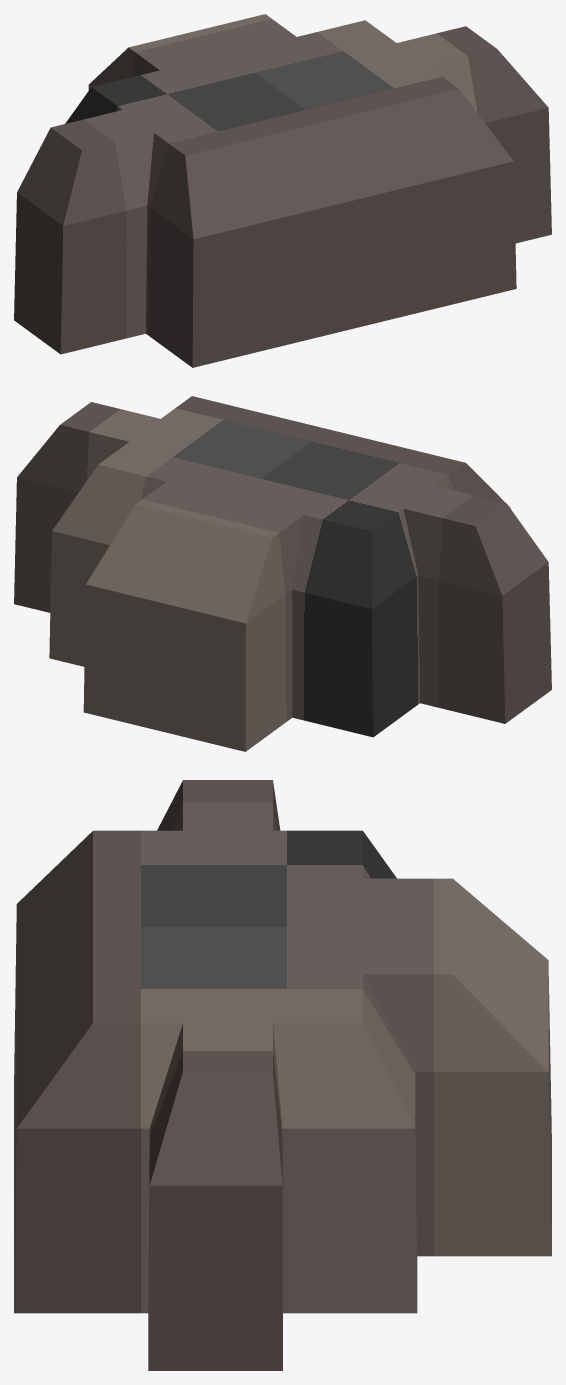
Rendered from small_rock_203x09.gltf.
3 views of the same model, one above another, from view 1: azimuth 30°, elevation 25°; view 2: azimuth 150°, elevation 25°; view 3: azimuth 270°, elevation 25° (orthographic). The views are drawn at different scales.
Parts seen in each view (by area): view 1: small_rock_203x09; view 2: small_rock_203x09; view 3: small_rock_203x09.
Boxes of the visible parts, x1,y1,x2,y2 form: small_rock_203x09: (14, 14, 551, 367); small_rock_203x09: (14, 396, 551, 751); small_rock_203x09: (14, 780, 551, 1370).
Bounding box in the file's own units: 0.6518 × 0.2374 × 0.4298.
1 material, 1 textured.
